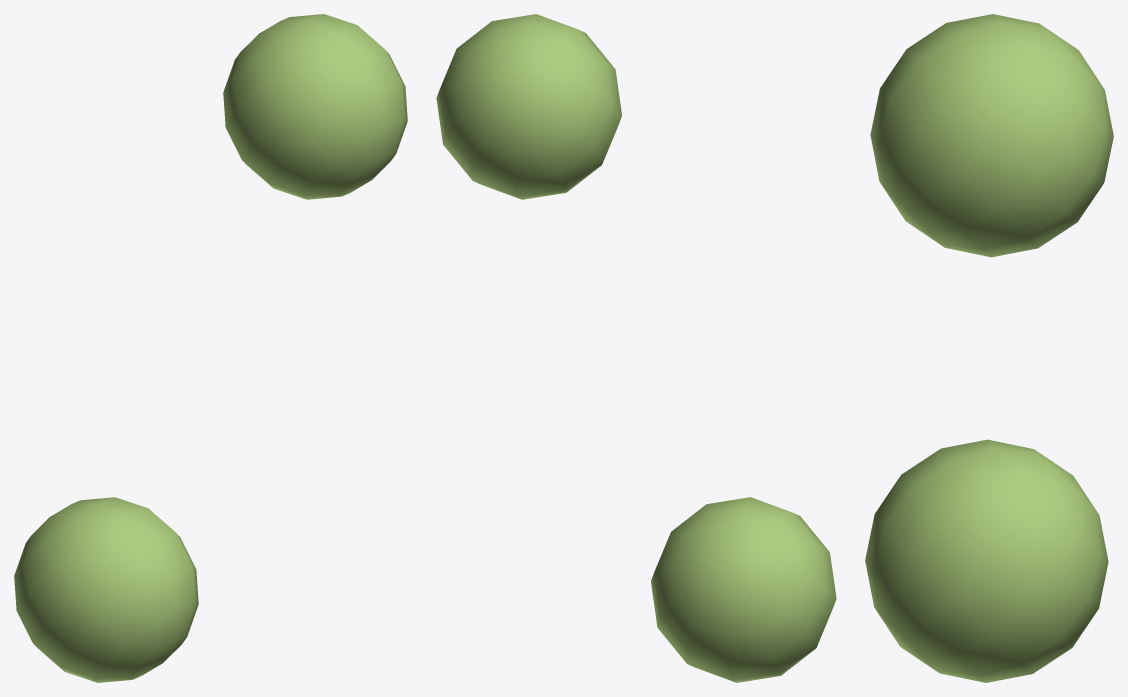
Rendered from precaecal-nodes.glb.
3 views of the same model, side by side, from view 1: azimuth 30°, elevation 25°; view 2: azimuth 150°, elevation 25°; view 3: azimuth 270°, elevation 25° (orthographic). The views are drawn at different scales.
Parts seen in each view (by area): view 1: Precaecal nodes; view 2: Precaecal nodes; view 3: Precaecal nodes.
Part boxes in pixels (x1=…): Precaecal nodes: x1=14, y1=14, x2=407, y2=682; Precaecal nodes: x1=436, y1=14, x2=836, y2=682; Precaecal nodes: x1=865, y1=14, x2=1113, y2=682.
Size of the model in its own units: 0.00592 by 0.00918 by 0.00266.
